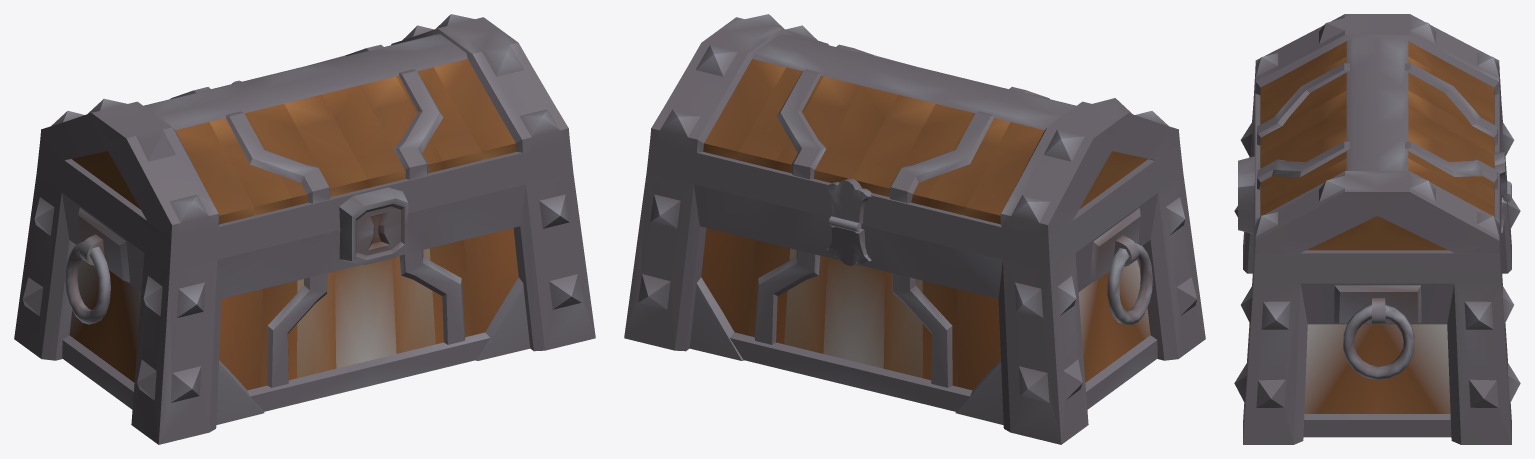
The model's file is chest.glb.
The picture shows the model from 3 angles, left to right: view 1: azimuth 30°, elevation 25°; view 2: azimuth 150°, elevation 25°; view 3: azimuth 270°, elevation 25°; orthographic projection. The views are drawn at different scales.
Parts seen in each view (by area): view 1: chest; view 2: chest; view 3: chest.
Part boxes in pixels (<box>): chest: <box>14,14,595,444</box>; chest: <box>624,14,1205,444</box>; chest: <box>1234,14,1520,444</box>.
Bounding box in the file's own units: 1.28 × 0.7152 × 0.7554.
